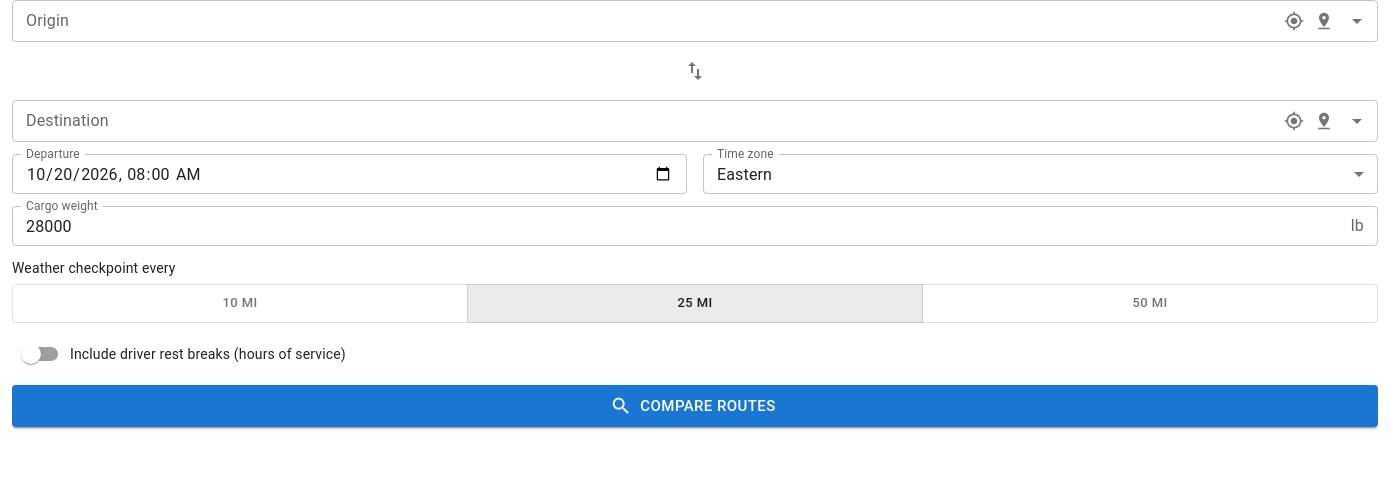
Scenario: RouteForm › blocks submission and explains what to fix
Click the button "Compare routes" at (695, 406), box [12,385,1378,427]
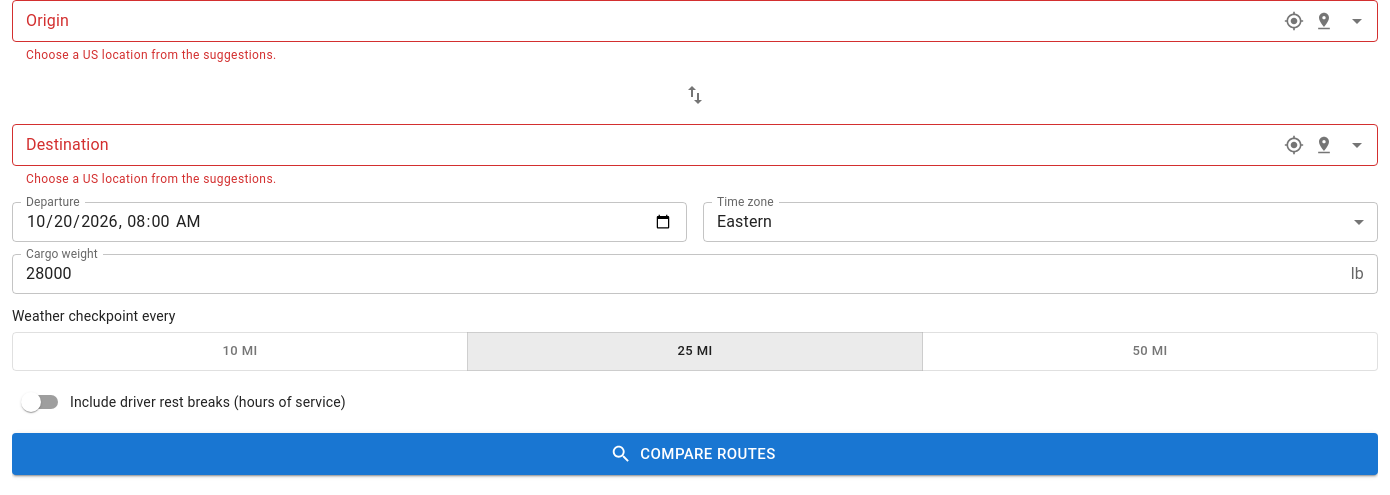
Expected: the text "Choose a US location from the suggestions." is shown 2 times, [26,48,276,62]; [26,172,276,186]
